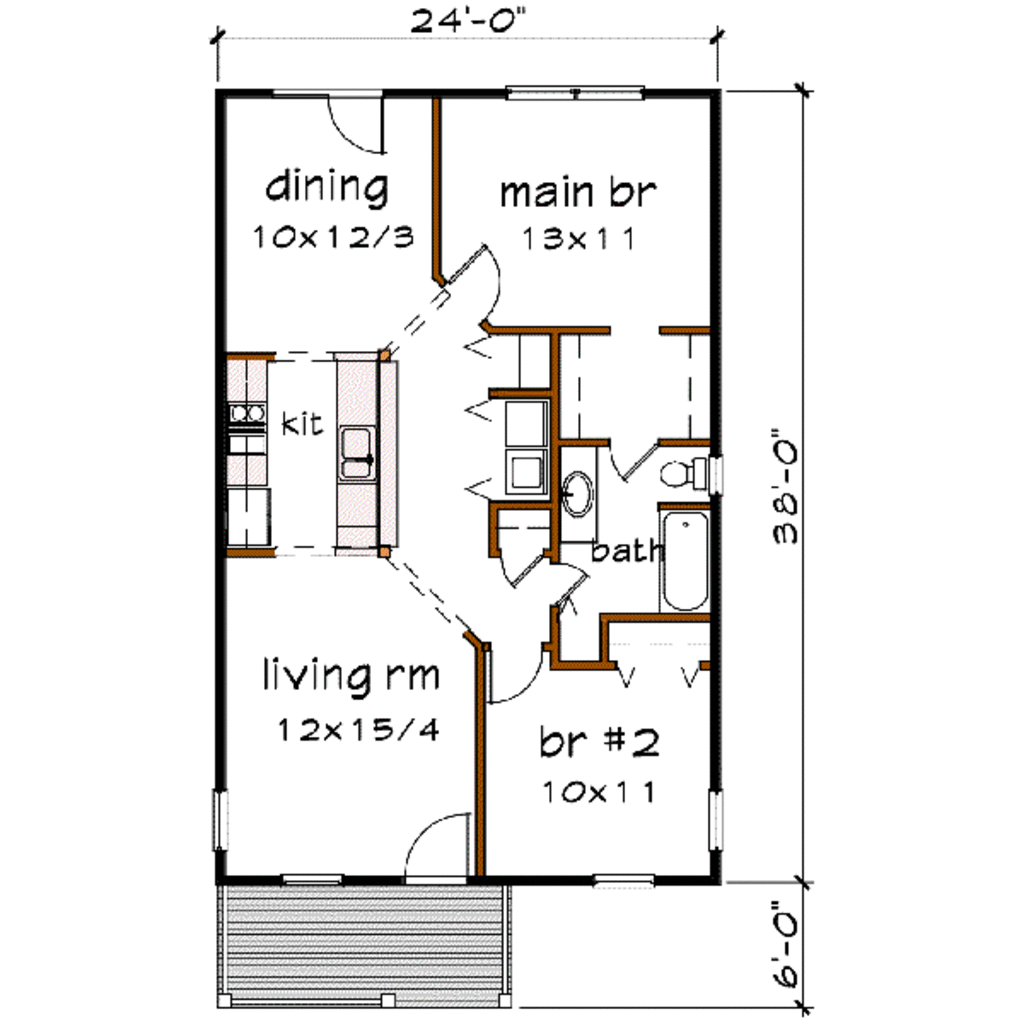door: (397, 810, 484, 888), (444, 228, 506, 317), (323, 80, 389, 160), (478, 641, 545, 707), (595, 430, 661, 485), (530, 557, 594, 611), (489, 538, 550, 594)
large_sink: (656, 447, 727, 500)
small_sink: (553, 435, 605, 541)
tub: (661, 505, 728, 616)
twin_sink: (333, 414, 402, 486)
window: (475, 77, 659, 107), (203, 766, 244, 858), (278, 858, 353, 897), (705, 777, 736, 861), (583, 861, 666, 891)
